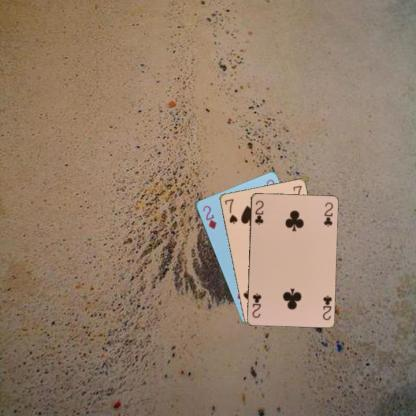2c: (320, 292, 333, 321), (252, 198, 265, 226)
2d: (200, 202, 218, 230)
7s: (222, 196, 238, 225)
